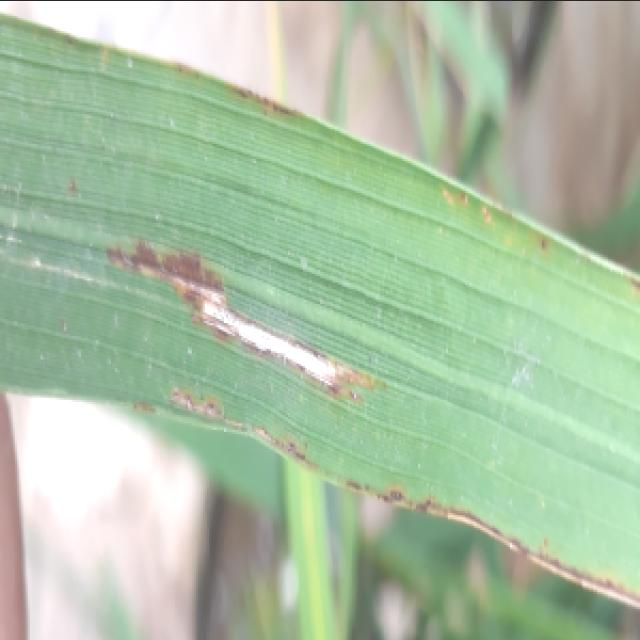Brown_Spot: (122, 233, 360, 405)
